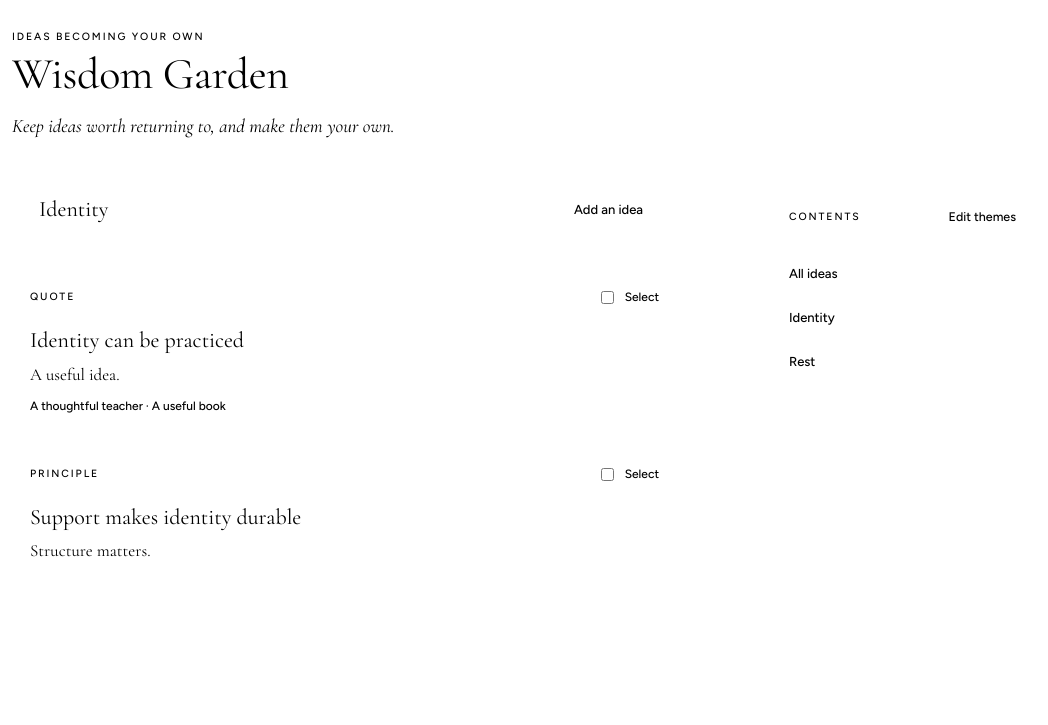
it: guides the idea composer with a description and a ghost example
Click the button "Add an idea".
click(609, 209)  # box [558, 187, 659, 231]
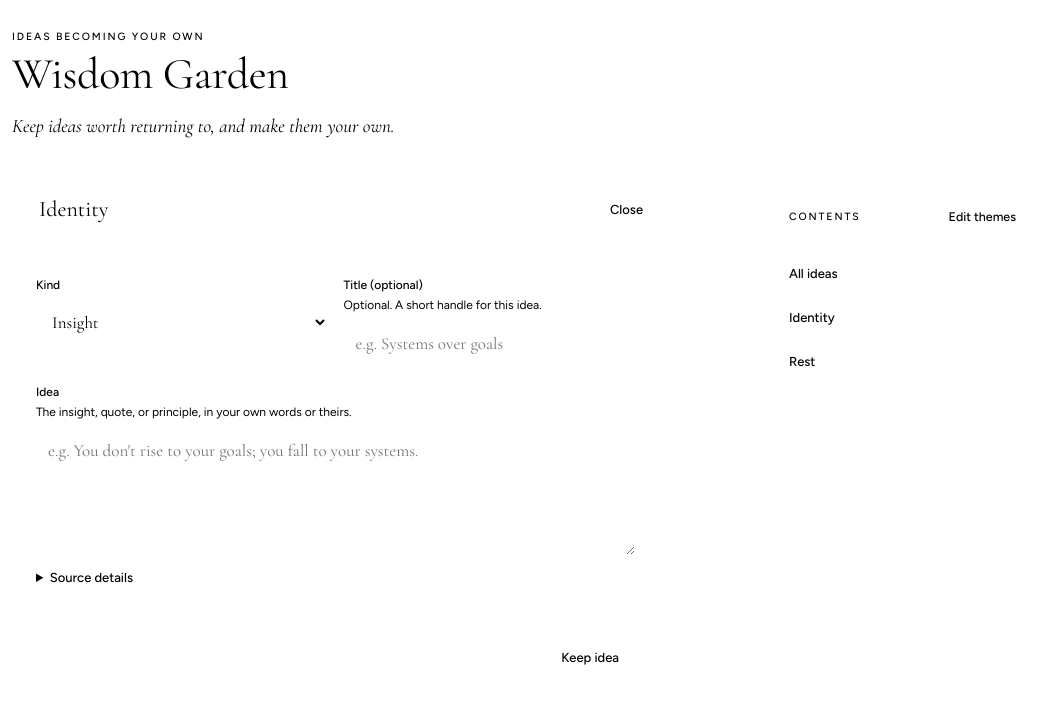
Now the text "The insight, quote, or principle, in your own words or theirs." is shown, box [36, 405, 352, 419]
